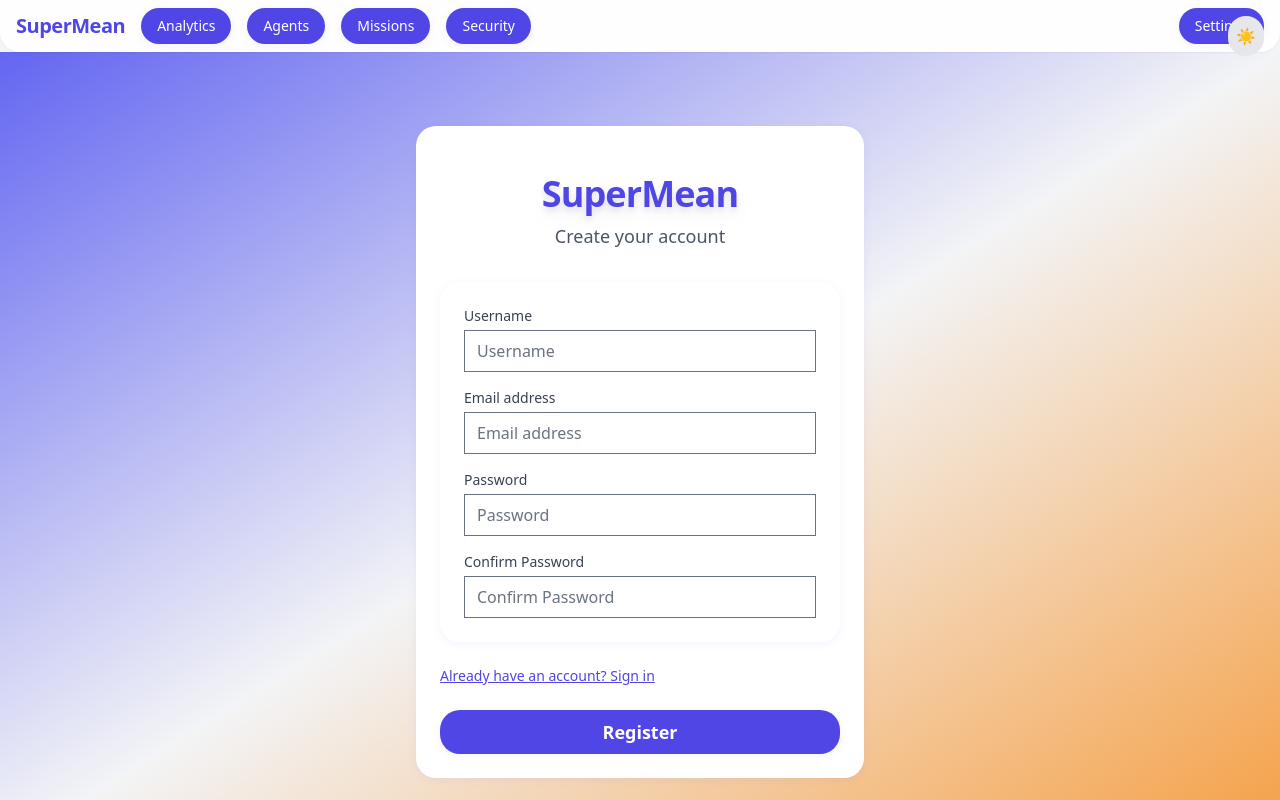
Authentication Flow › should show error when passwords do not match on register page
Type "testuser" into the field named "username" at (640, 351), box left=464, top=330, right=816, bottom=372
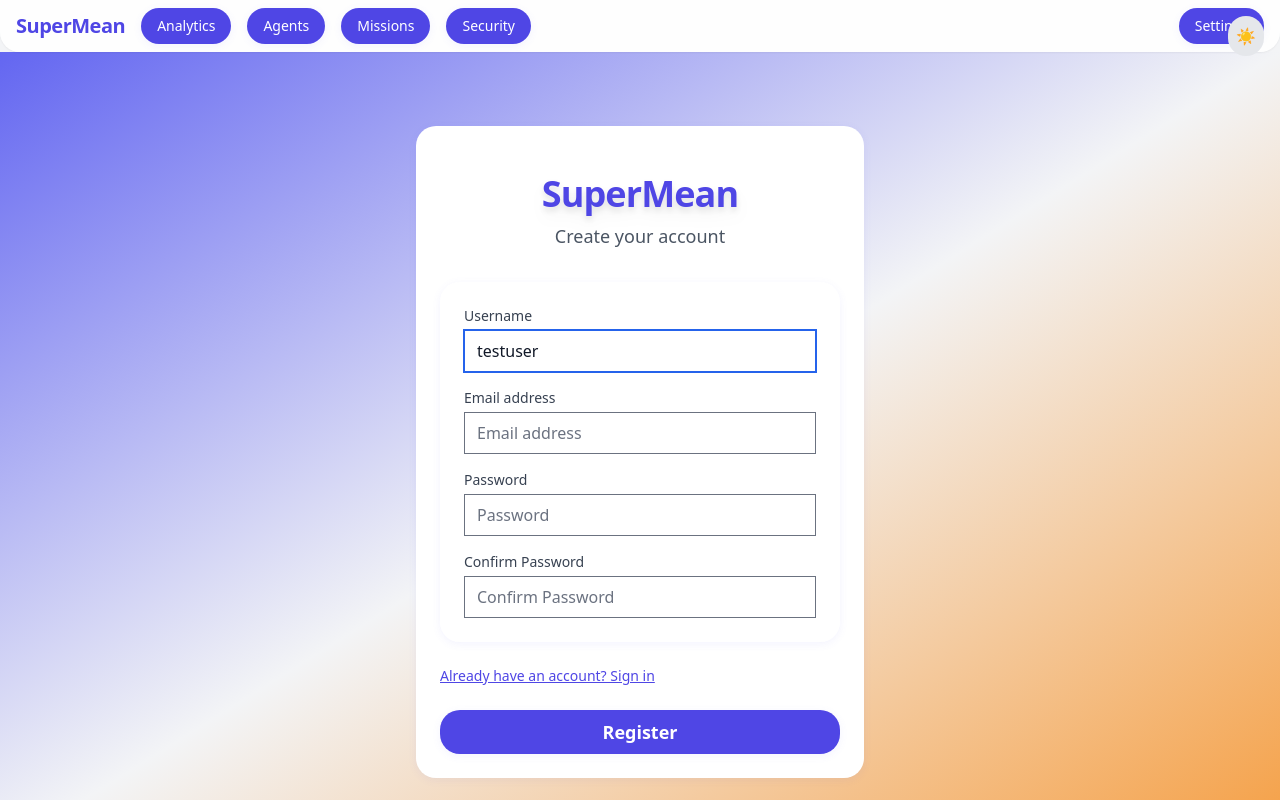
Type "test@example.com" into the field named "email" at (640, 433), box left=464, top=412, right=816, bottom=454
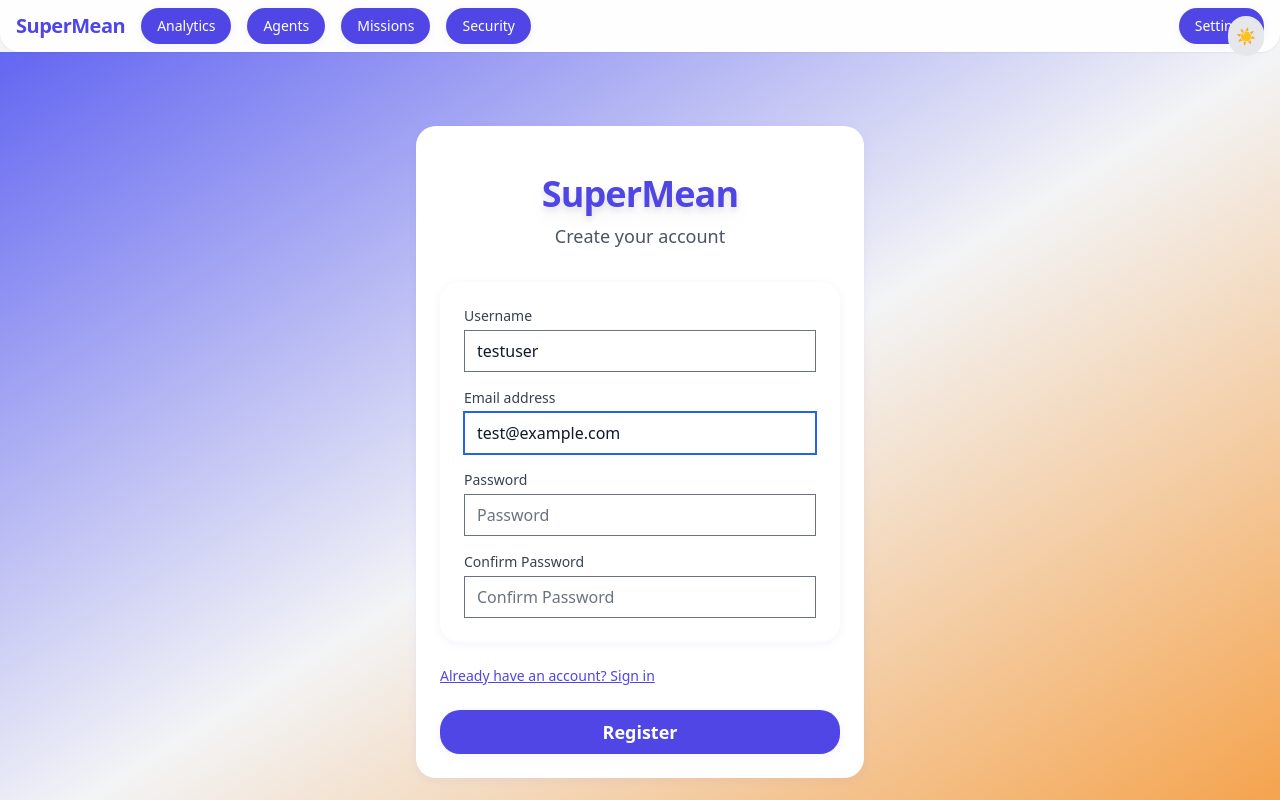
Type "password123" into the password field named "password" at (640, 515), box left=464, top=494, right=816, bottom=536
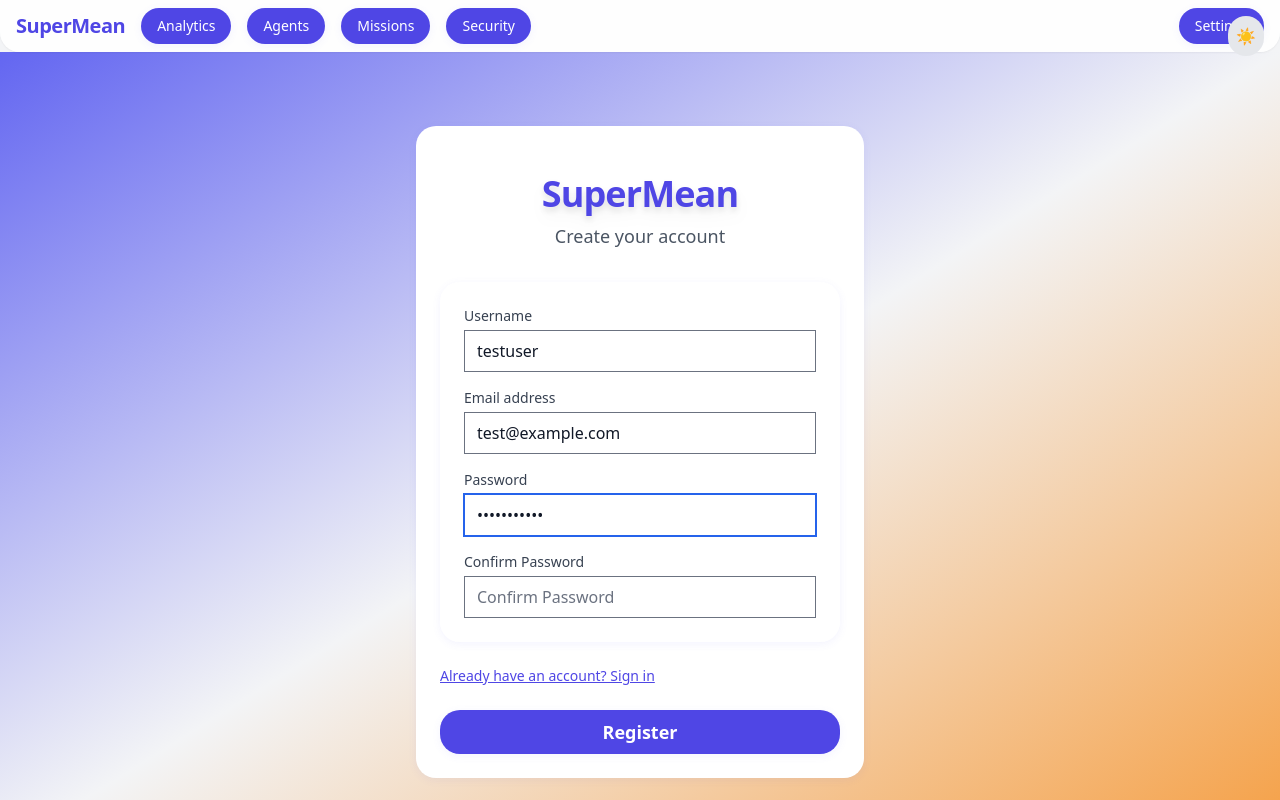
Type "password456" into the password field named "confirm-password" at (640, 597), box left=464, top=576, right=816, bottom=618
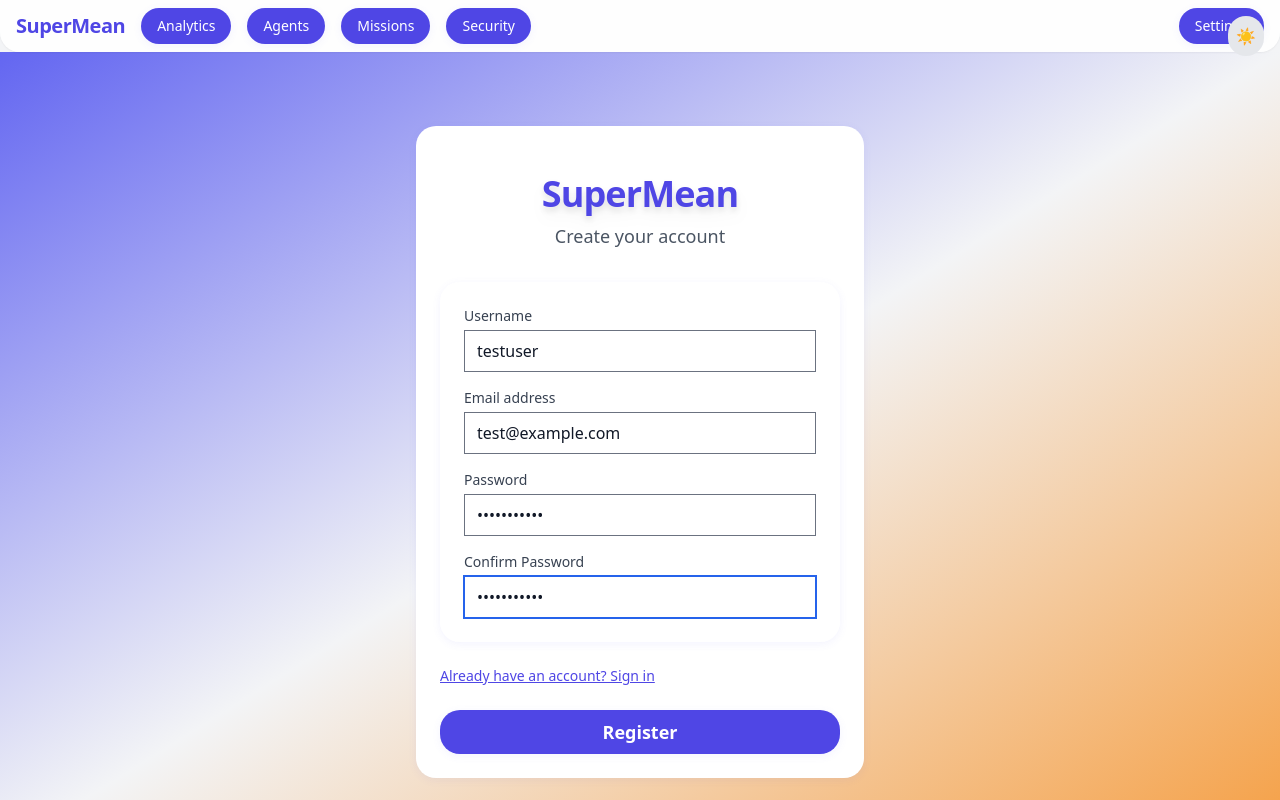
Click the button "Register" at (640, 732), box left=440, top=710, right=840, bottom=754
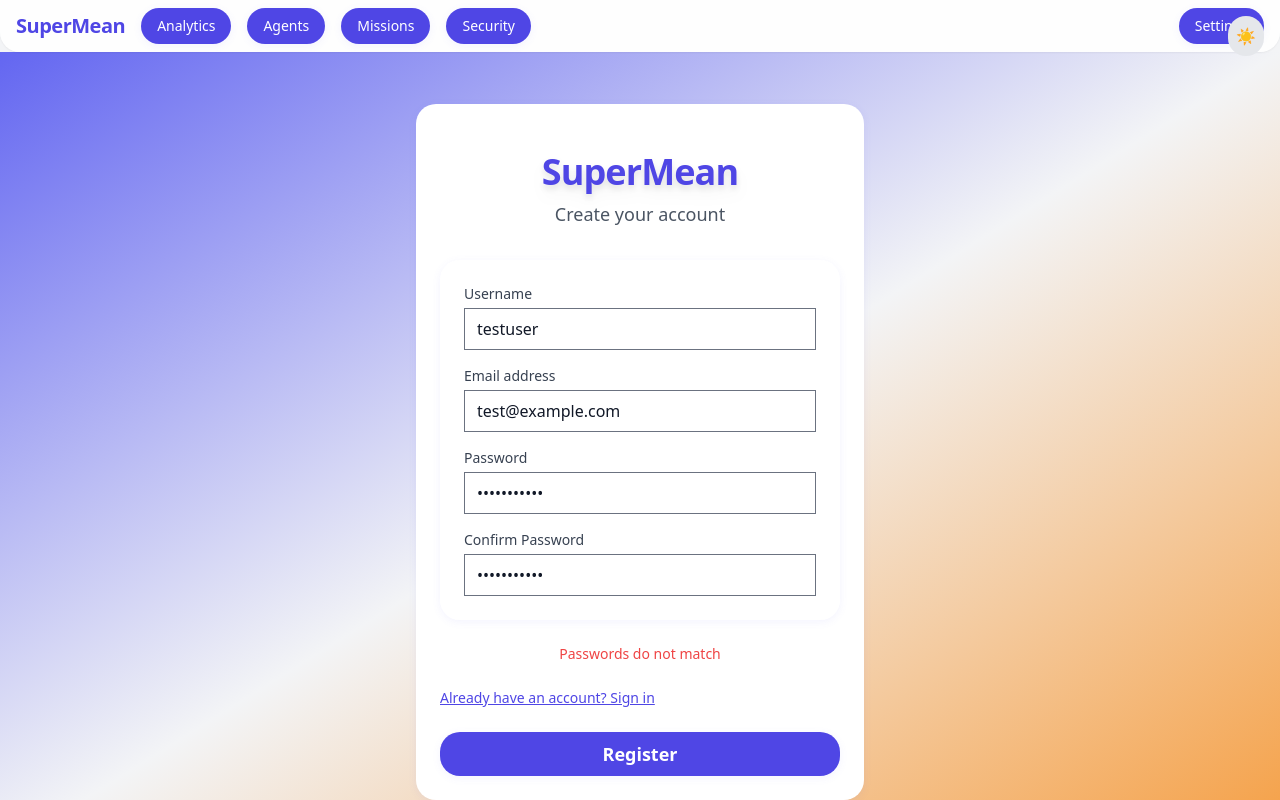
Now the text "Passwords do not match" is shown, box left=559, top=644, right=721, bottom=663
